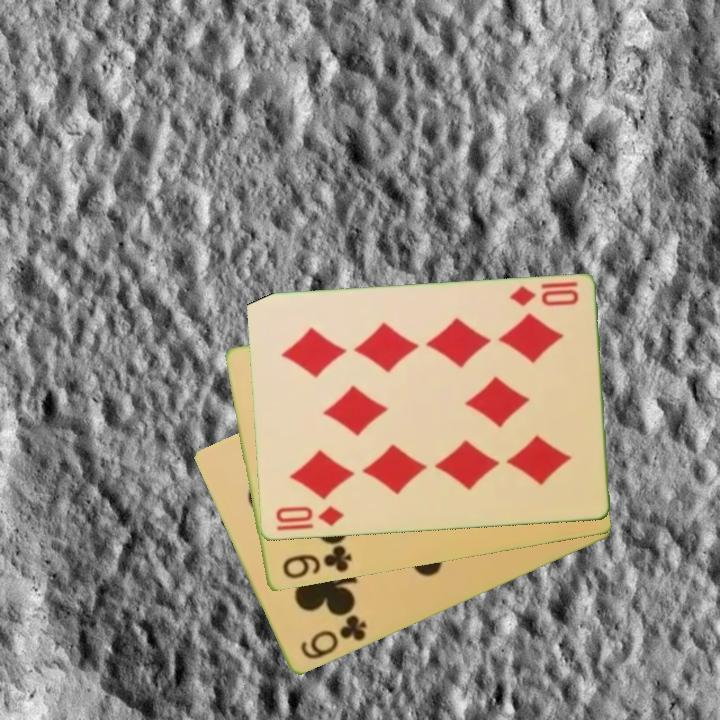10d: (506, 282, 581, 310), (272, 502, 346, 530)
6c: (296, 611, 370, 663)
9c: (278, 542, 355, 583)
